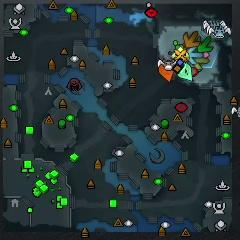Other: (172, 47, 189, 62)
p2: (177, 63, 192, 81)
p5: (159, 64, 175, 82)
x2: (193, 58, 209, 71)
x3: (185, 47, 203, 64)
x4: (197, 36, 213, 53)
x5: (184, 31, 200, 48)
